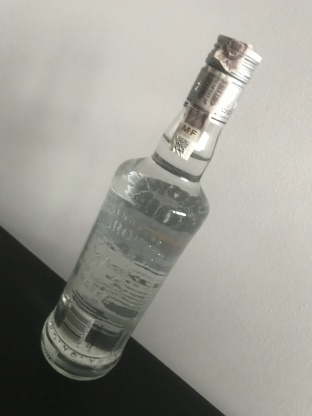nakretka: (181, 32, 264, 130)
